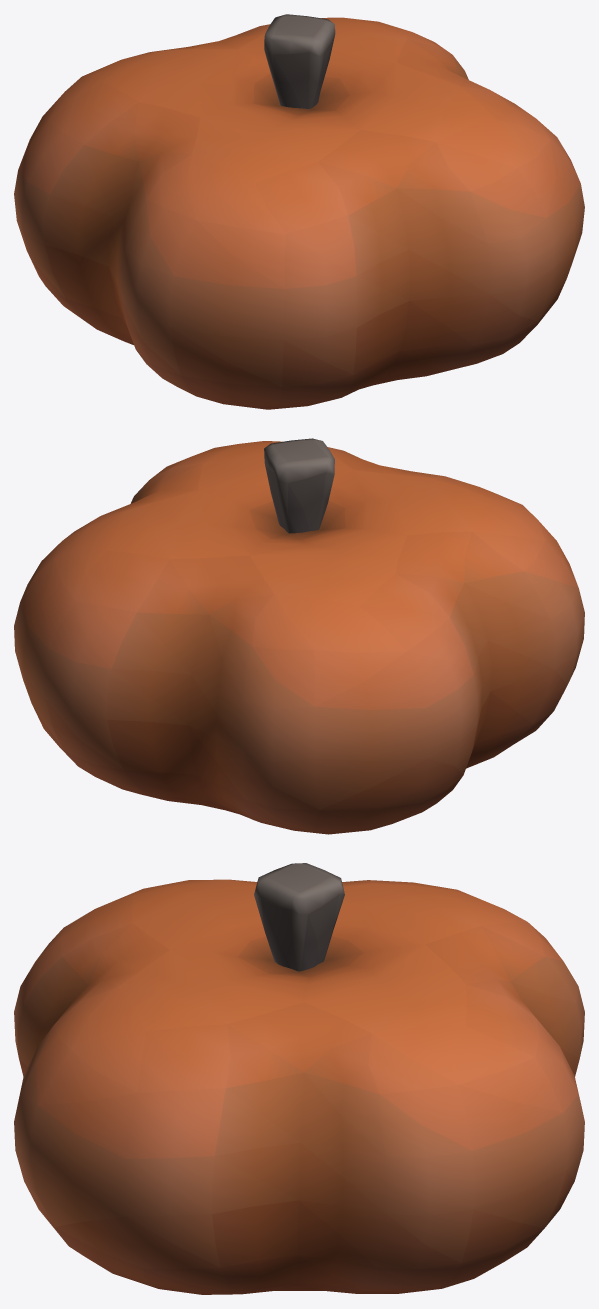
File: prop_pumpkin.glb
3 renders of one model, top to bottom at view 1: azimuth 30°, elevation 25°; view 2: azimuth 150°, elevation 25°; view 3: azimuth 270°, elevation 25°, orthographic. The views are drawn at different scales.
Visible parts, largest first — view 1: refined; view 2: refined; view 3: refined.
Part boxes in pixels (x1,y1,x2,y2): refined: (14, 14, 584, 409); refined: (14, 438, 584, 834); refined: (14, 863, 584, 1294).
Bounding box in the file's own units: 1 × 0.7 × 1.
